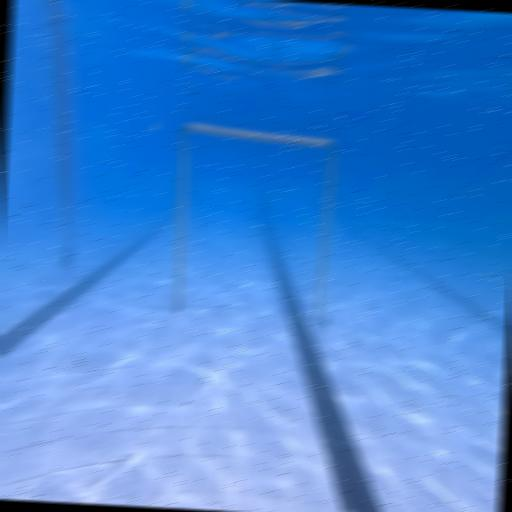gate: (169, 122, 340, 329)
